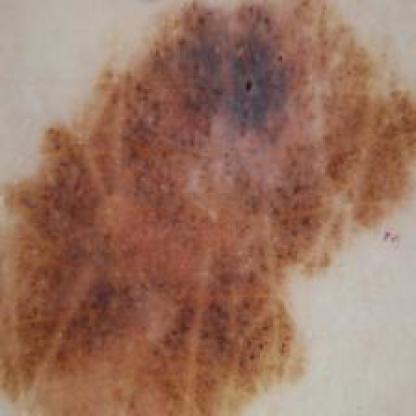malignant: (9, 6, 400, 398)
